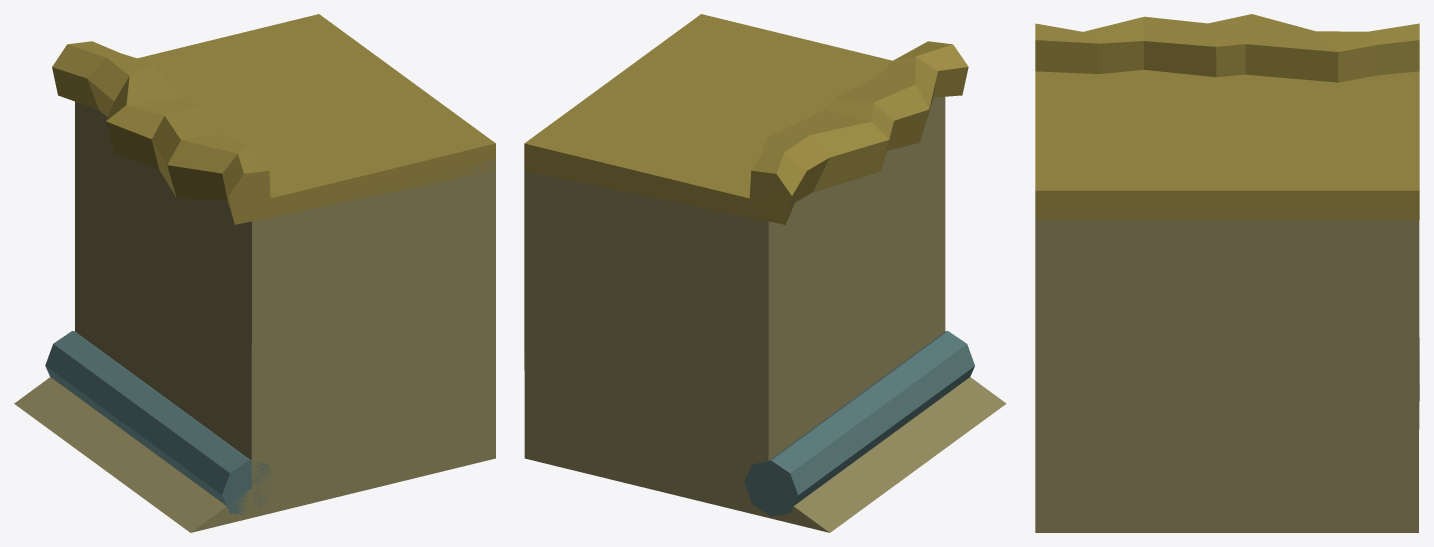
Rendered from Int_9_Wall_Vert_Left_Block.fbx.
The picture shows the model from 3 angles, left to right: view 1: azimuth 30°, elevation 25°; view 2: azimuth 150°, elevation 25°; view 3: azimuth 270°, elevation 25°; orthographic projection. The views are drawn at different scales.
Visible parts, largest first — view 1: Int_9_Wall_Vert_Left_Block1; view 2: Int_9_Wall_Vert_Left_Block1; view 3: Int_9_Wall_Vert_Left_Block1.
Boxes of the visible parts, x1,y1,x2,y2 form: Int_9_Wall_Vert_Left_Block1: [14, 14, 495, 532]; Int_9_Wall_Vert_Left_Block1: [524, 14, 1006, 532]; Int_9_Wall_Vert_Left_Block1: [1035, 14, 1419, 532].
Size of the model in its own units: 0.9955 by 1.08 by 0.999.
